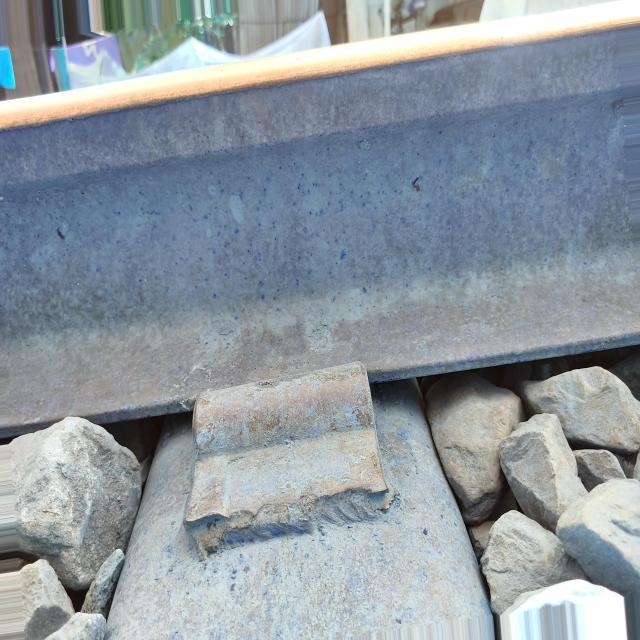Missing Fastener: (162, 308, 443, 567)
